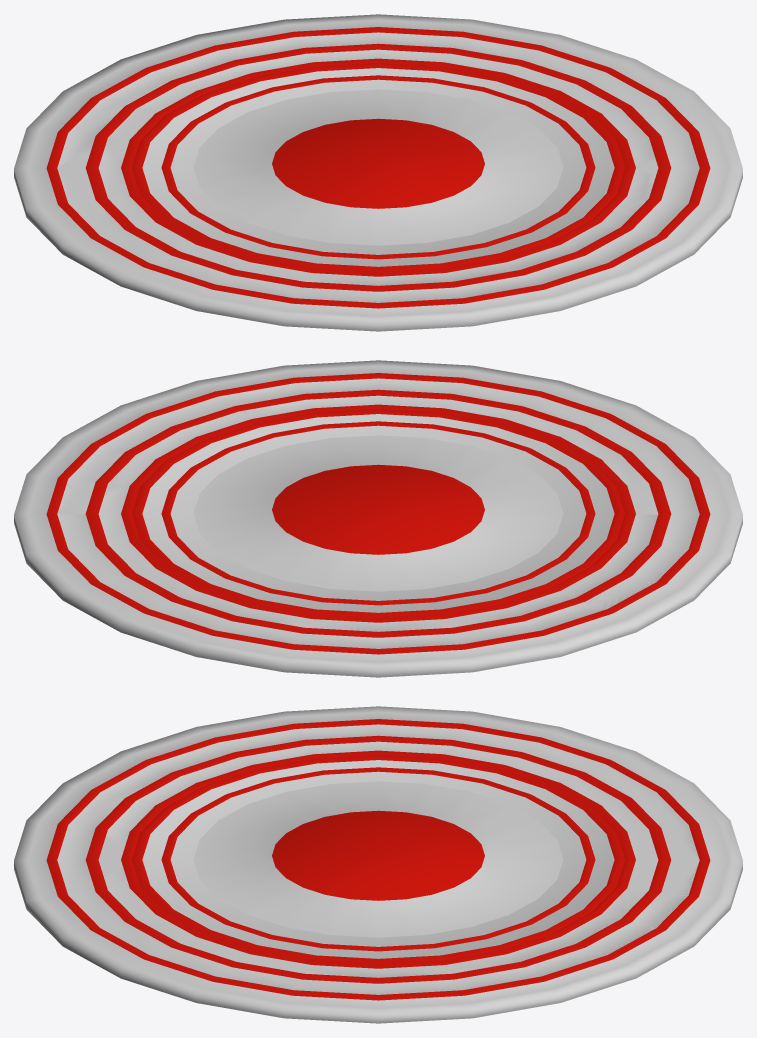
Rendered from RangeStyle2.fbx.
3 views of the same model, one above another, from view 1: azimuth 30°, elevation 25°; view 2: azimuth 150°, elevation 25°; view 3: azimuth 270°, elevation 25° (orthographic).
Visible parts, largest first — view 1: Cube.002, Cube, Cube.001; view 2: Cube.002, Cube, Cube.001; view 3: Cube.002, Cube, Cube.001.
Boxes of the visible parts, bbox=[...] form: Cube.002: bbox=[14, 14, 742, 331]; Cube: bbox=[52, 27, 704, 303]; Cube.001: bbox=[57, 33, 697, 302]; Cube.002: bbox=[14, 360, 742, 677]; Cube: bbox=[52, 373, 704, 649]; Cube.001: bbox=[57, 379, 696, 648]; Cube.002: bbox=[14, 706, 742, 1023]; Cube: bbox=[52, 719, 704, 995]; Cube.001: bbox=[59, 725, 699, 994].
Bounding box in the file's own units: 219 × 4.57 × 219.
